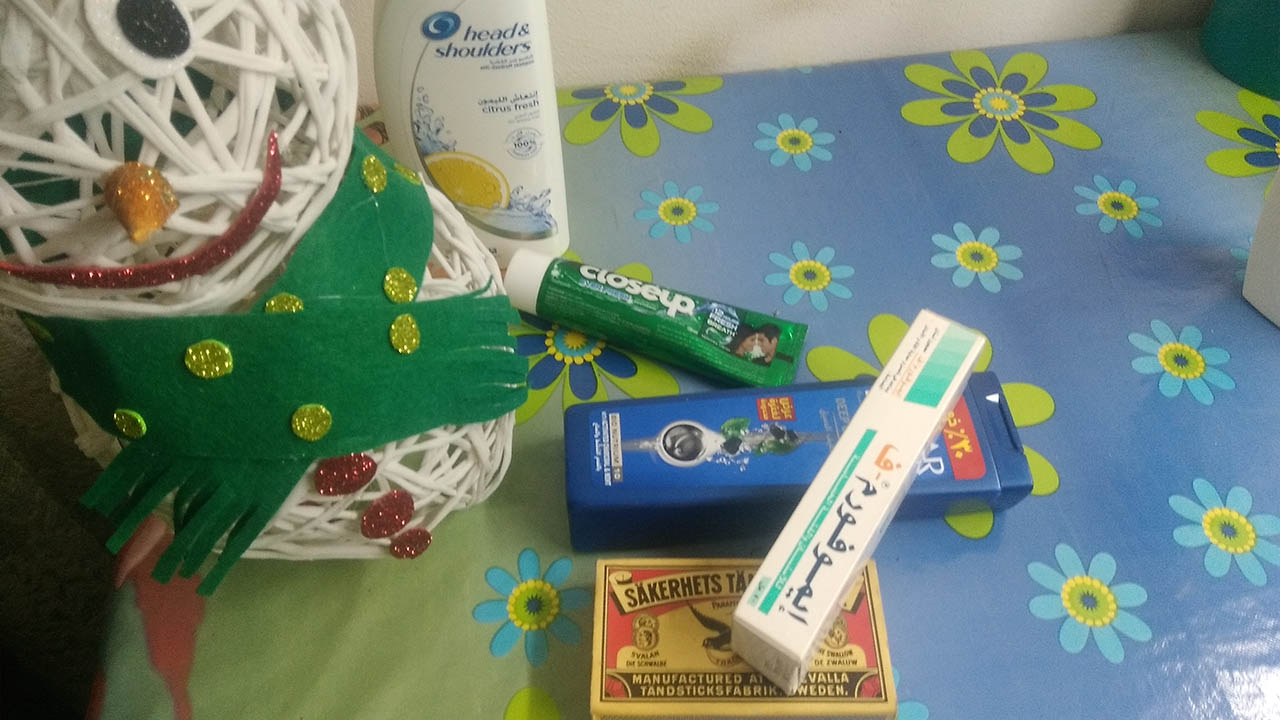Shampoo-Clear 4.7$: (566, 393, 1081, 497)
Toothpaste-Closeup 3.04$: (507, 251, 805, 389)
Toothpaste-F 1.5$: (729, 330, 996, 650)
match-sticks .90$: (579, 559, 882, 710)
shampoo-Lemon 3.5$: (387, 1, 575, 259)
